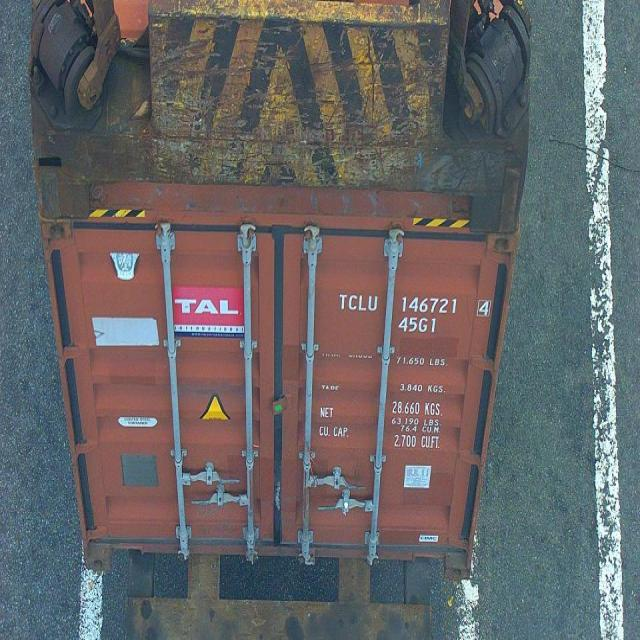ISO: (397, 316, 438, 334)
container_number: (334, 284, 494, 318)
